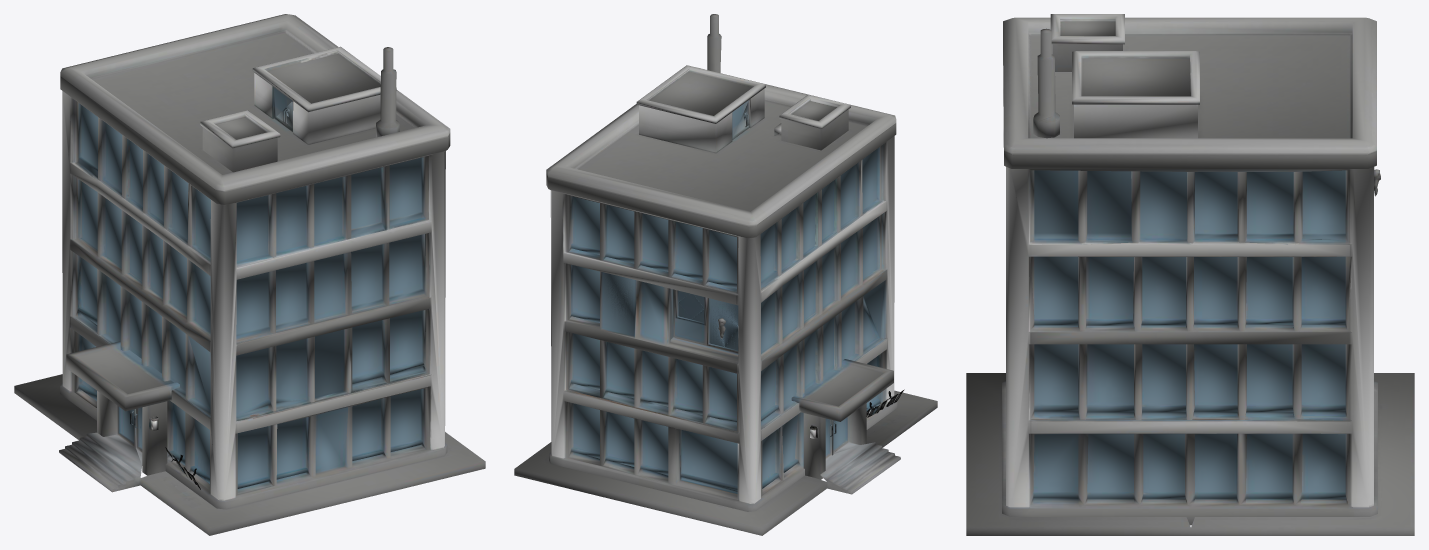
File: selected.glb
3 renders of one model, left to right at view 1: azimuth 30°, elevation 25°; view 2: azimuth 150°, elevation 25°; view 3: azimuth 270°, elevation 25°, orthographic. The views are drawn at different scales.
Parts seen in each view (by area): view 1: tripo_node_ee147eab-dd20-4fac-9ca7-cf528ab42eee; view 2: tripo_node_ee147eab-dd20-4fac-9ca7-cf528ab42eee; view 3: tripo_node_ee147eab-dd20-4fac-9ca7-cf528ab42eee.
Boxes of the visible parts, x1,y1,x2,y2 form: tripo_node_ee147eab-dd20-4fac-9ca7-cf528ab42eee: [14, 14, 485, 535]; tripo_node_ee147eab-dd20-4fac-9ca7-cf528ab42eee: [514, 14, 937, 535]; tripo_node_ee147eab-dd20-4fac-9ca7-cf528ab42eee: [966, 14, 1414, 535].
Bounding box in the file's own units: 0.7754 × 0.998 × 0.8613.
1 material, 1 textured.
